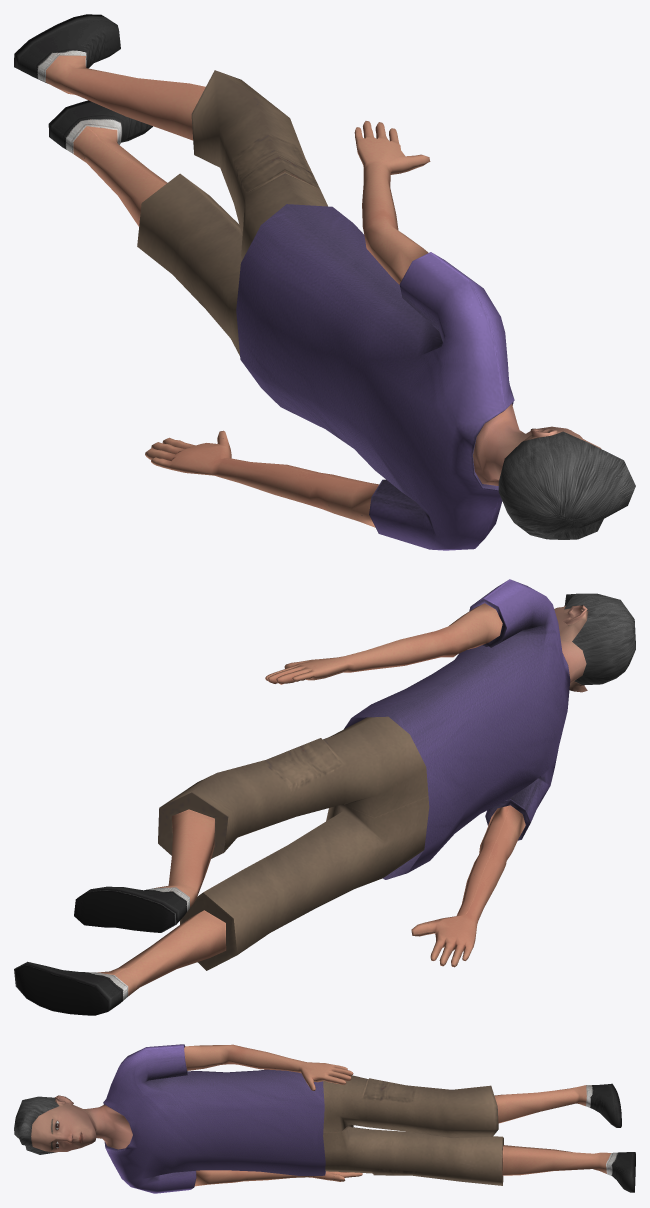
File: walk.obj
3 views of the same model, one above another, from view 1: azimuth 30°, elevation 25°; view 2: azimuth 150°, elevation 25°; view 3: azimuth 270°, elevation 25° (orthographic). The views are drawn at different scales.
Size of the model in its own units: 0.4928 by 0.4996 by 1.77.
Materials: 1 (1 with a texture image).
